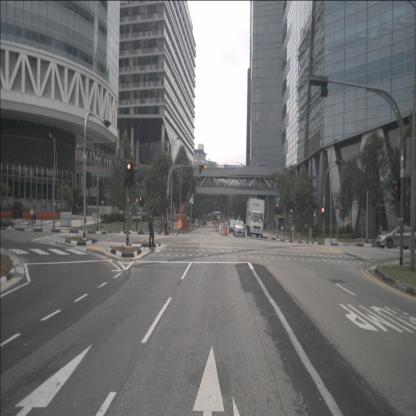barrier: (173, 221, 182, 231), (181, 222, 190, 231)
cone: (223, 227, 226, 236)
